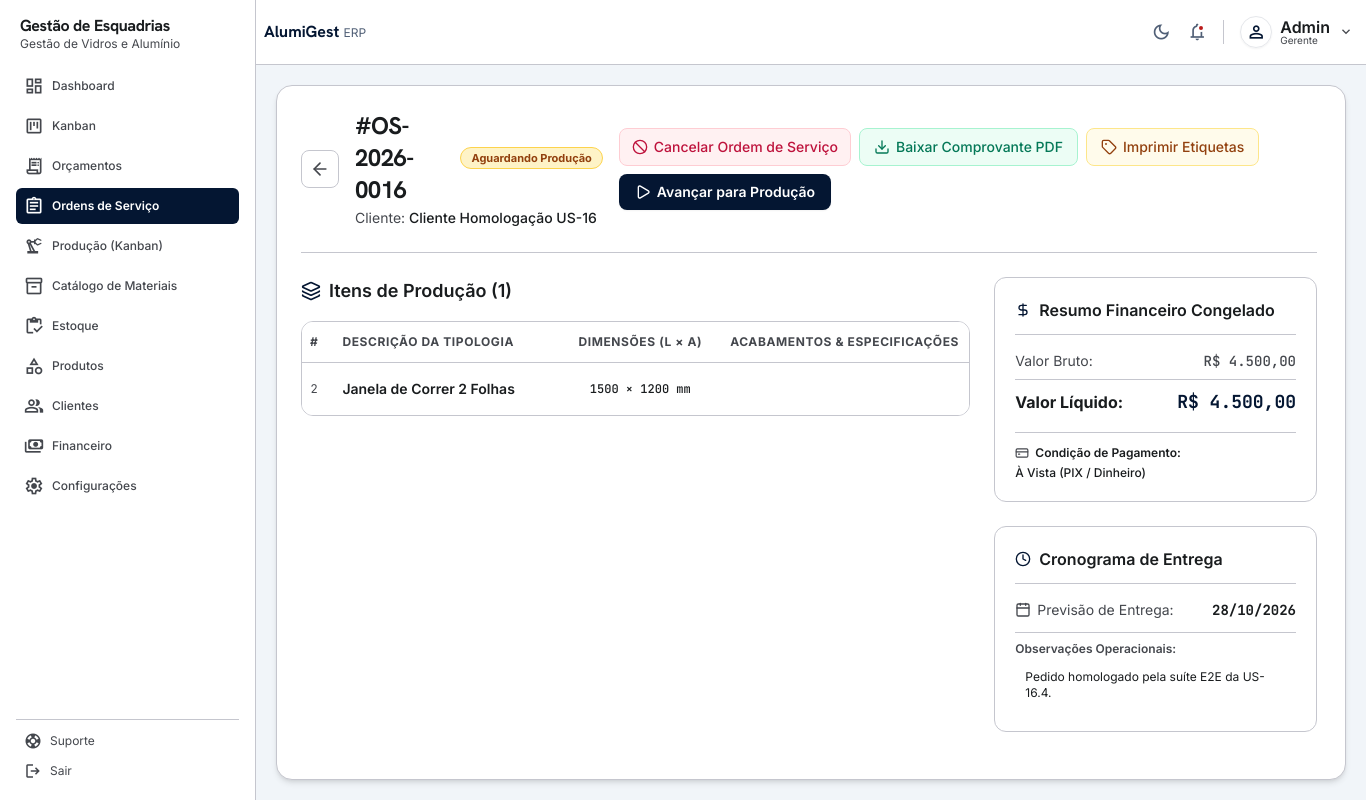
US-16.4: homologação E2E do fluxo de orçamento, pedido e comprovante › Dado um pedido ativo, quando solicita o comprovante, então baixa um PDF identificado
What coordinates should you click on to do the following:
click the button with id "btn-download-comprovante-pdf"
I would click on:
 (969, 147)
Its box is [859, 128, 1078, 166].
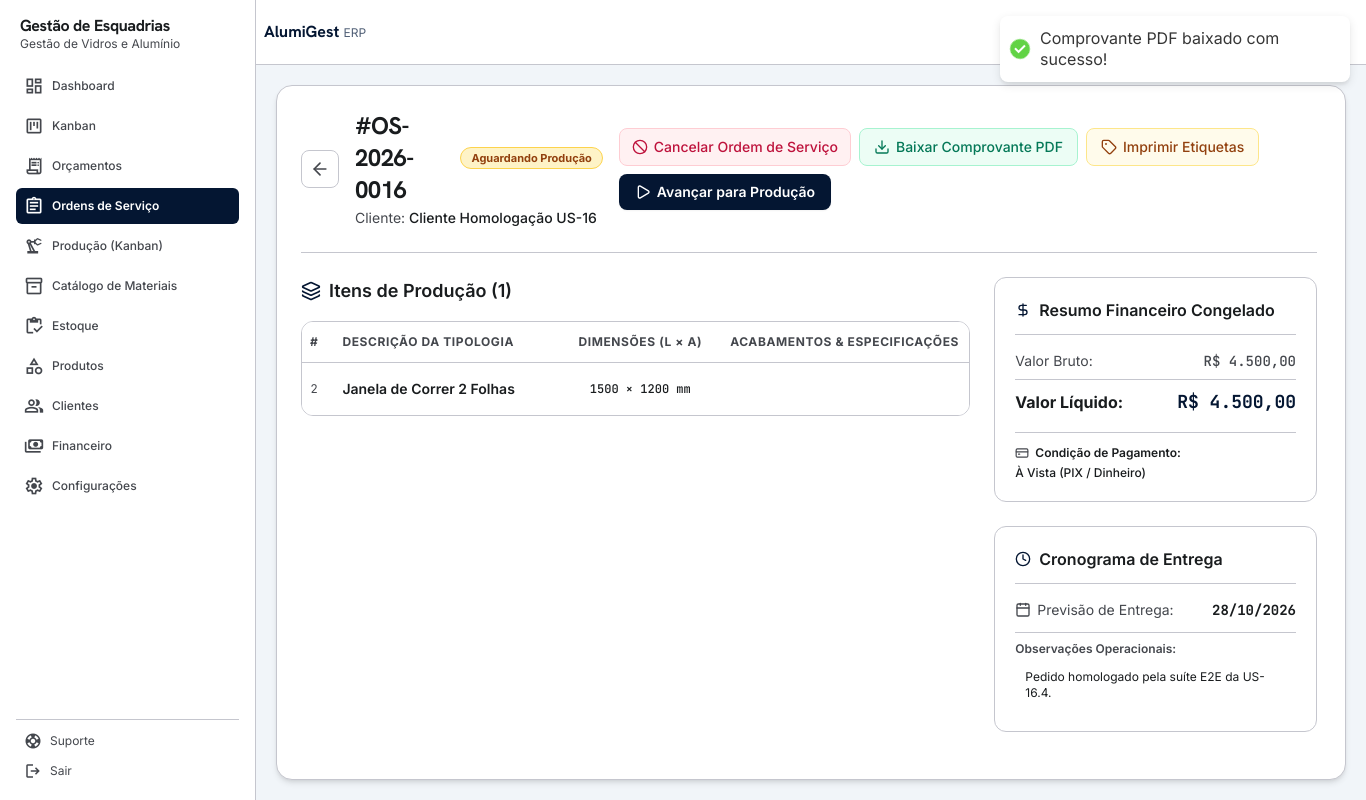
Now the text "Comprovante PDF baixado com sucesso!" is shown, box [1040, 28, 1279, 69]
